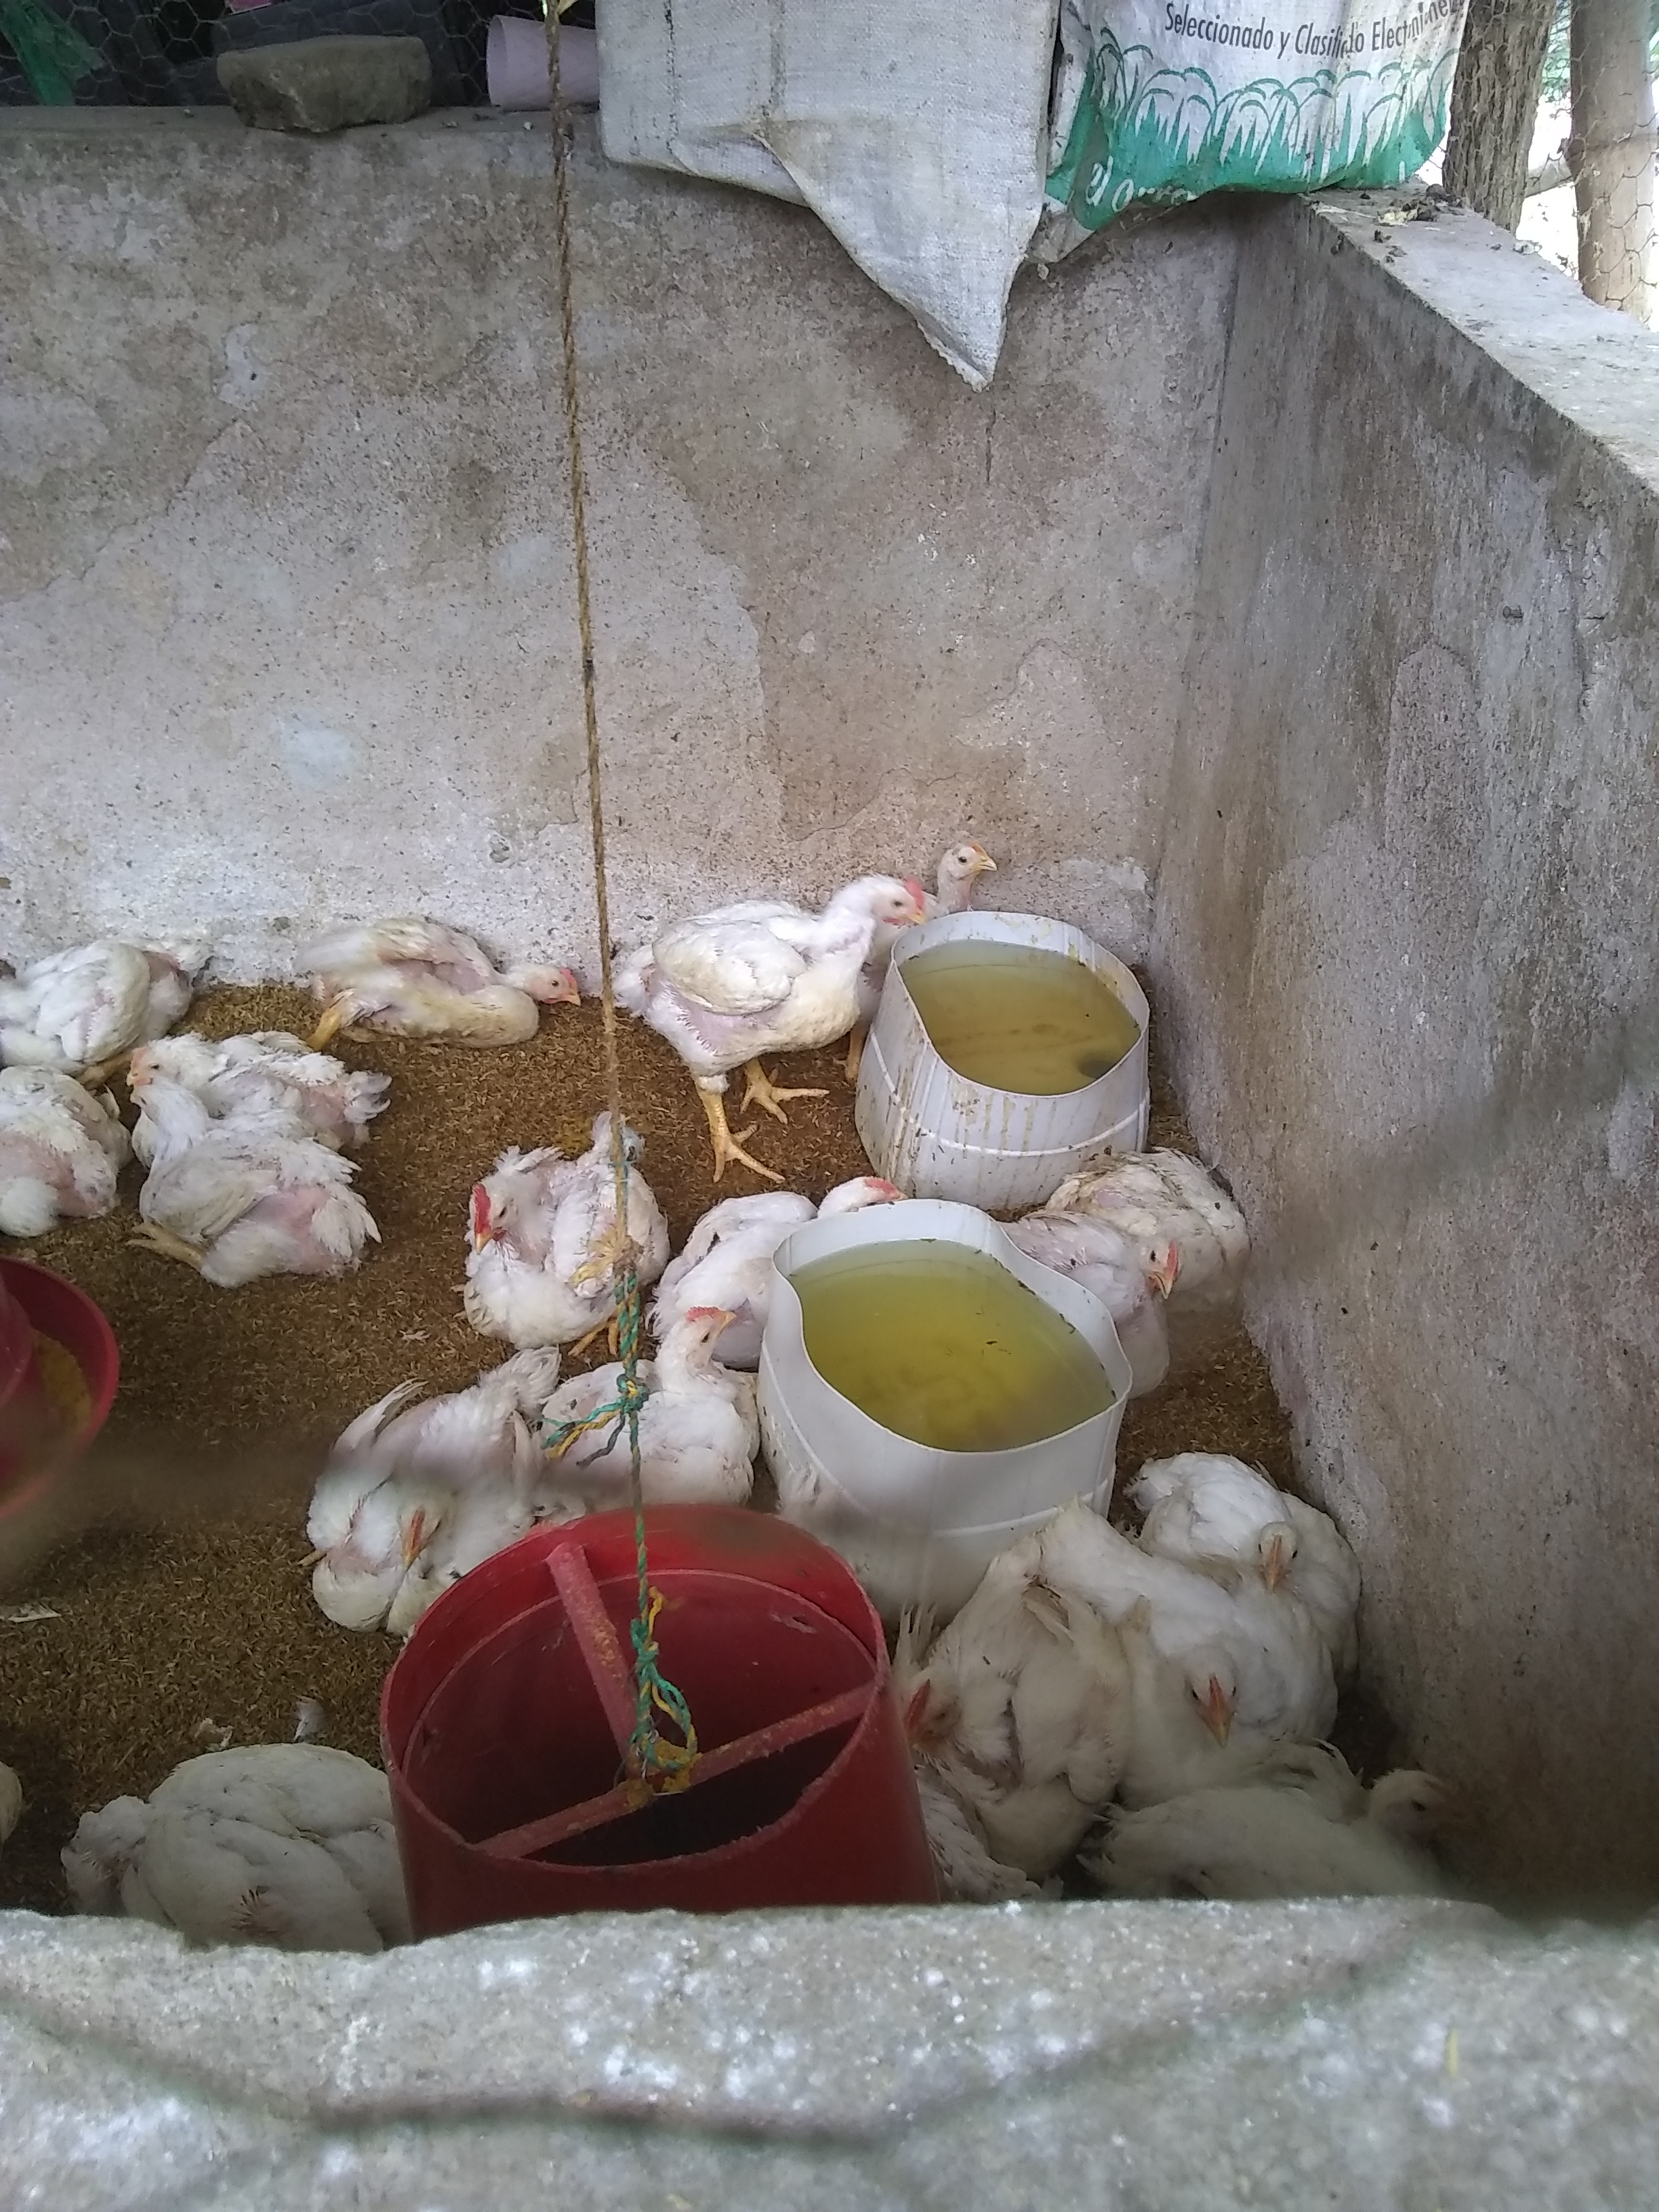Pollos: (549, 859, 920, 1132), (64, 1733, 425, 1973), (279, 1353, 544, 1641), (1169, 1728, 1481, 1947), (892, 1573, 1122, 1867), (552, 1256, 772, 1538), (120, 1085, 390, 1312), (1098, 1538, 1324, 1794), (1162, 1439, 1382, 1669), (291, 897, 577, 1068), (451, 1111, 653, 1332), (1016, 1186, 1197, 1386), (115, 1012, 389, 1132), (0, 911, 213, 1064), (702, 1162, 934, 1301), (0, 1057, 143, 1231), (924, 813, 1025, 913)
